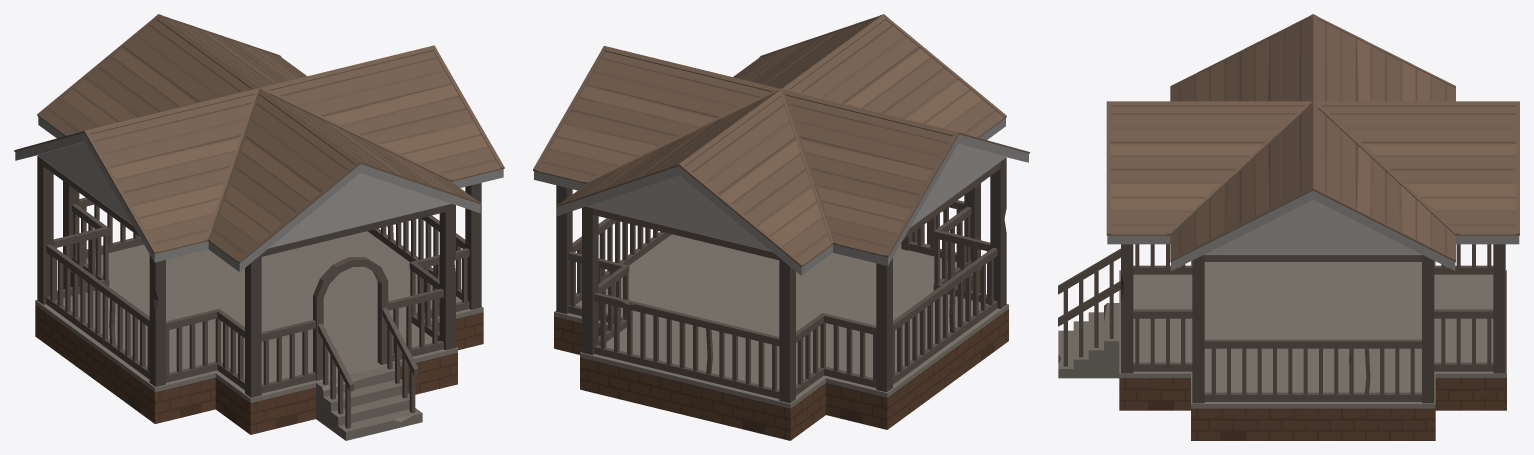
The model's file is SM_Bldg_Suburb_Gazebo.fbx.
The picture shows the model from 3 angles, left to right: view 1: azimuth 30°, elevation 25°; view 2: azimuth 150°, elevation 25°; view 3: azimuth 270°, elevation 25°; orthographic projection. The views are drawn at different scales.
Parts seen in each view (by area): view 1: SM_Bldg_Suburb_Gazebo; view 2: SM_Bldg_Suburb_Gazebo; view 3: SM_Bldg_Suburb_Gazebo.
Part boxes in pixels (x1=…): SM_Bldg_Suburb_Gazebo: x1=14, y1=14, x2=504, y2=440; SM_Bldg_Suburb_Gazebo: x1=533, y1=14, x2=1029, y2=440; SM_Bldg_Suburb_Gazebo: x1=1058, y1=14, x2=1519, y2=440.
Size of the model in its own units: 810 by 558 by 905.
